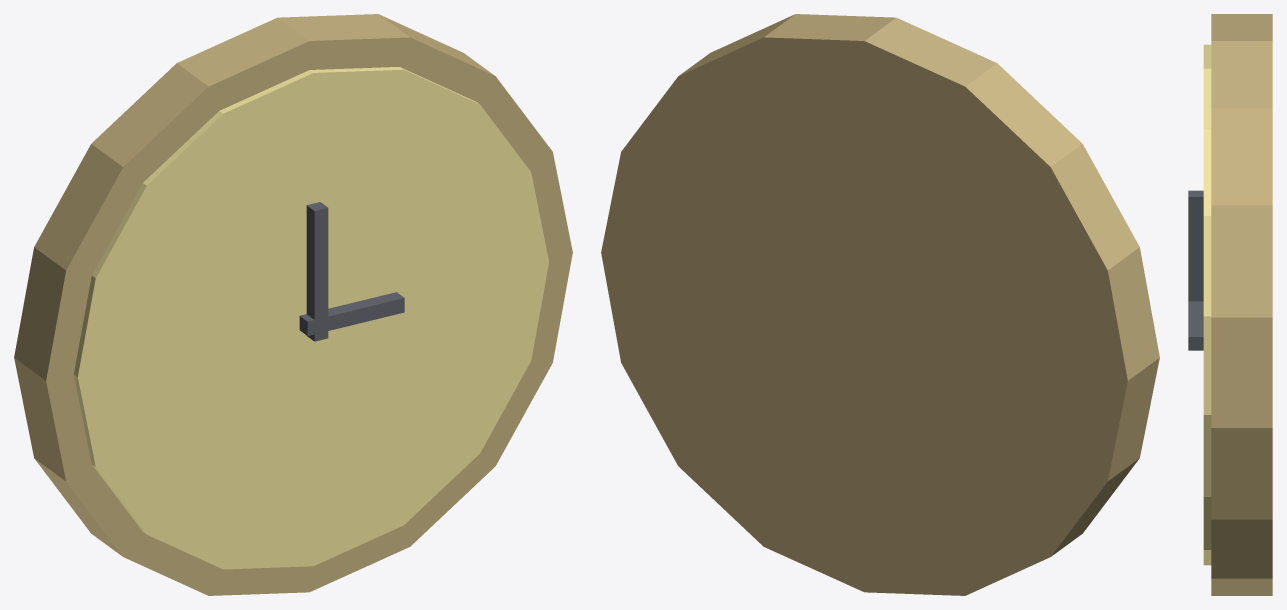
File: haunted_clock_wall.glb
3 renders of one model, left to right at view 1: azimuth 30°, elevation 25°; view 2: azimuth 150°, elevation 25°; view 3: azimuth 270°, elevation 25°, orthographic. The views are drawn at different scales.
Visible parts, largest first — view 1: Haunted_Clock_Wall; view 2: Haunted_Clock_Wall; view 3: Haunted_Clock_Wall.
Part boxes in pixels (x1=…): Haunted_Clock_Wall: x1=14, y1=14, x2=572, y2=595; Haunted_Clock_Wall: x1=601, y1=14, x2=1159, y2=595; Haunted_Clock_Wall: x1=1188, y1=14, x2=1272, y2=595.
Size of the model in its own units: 0.76 by 0.76 by 0.11.
